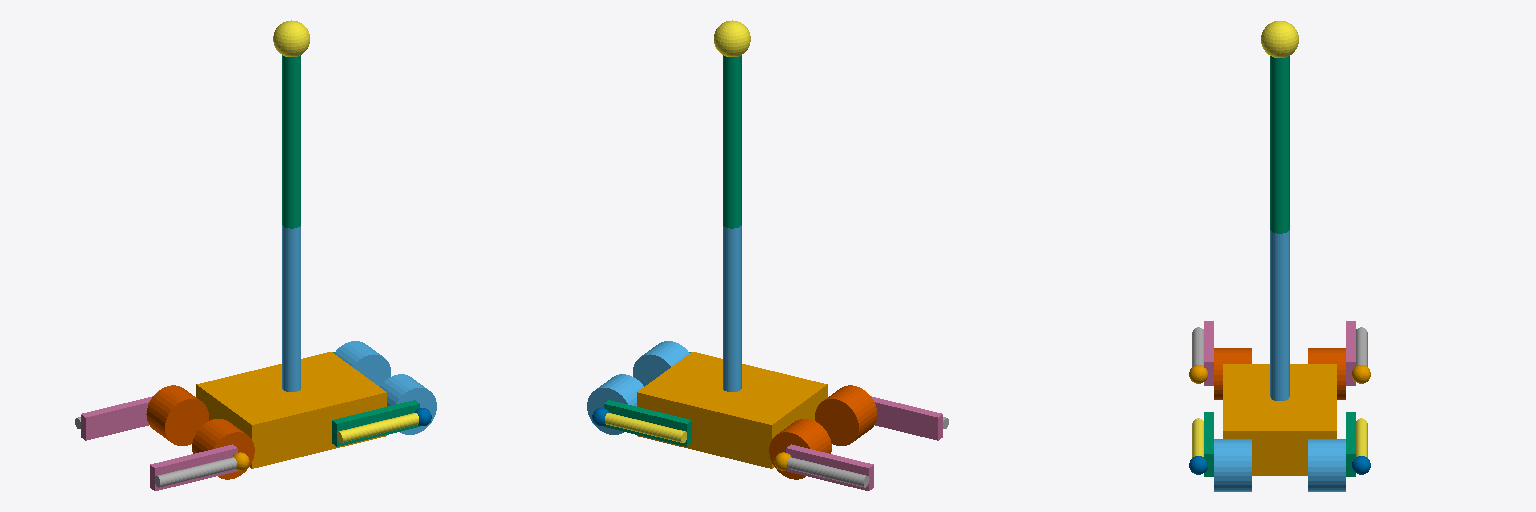
--- Facts derived from the render (not from the file) ---
The picture shows the robot from 3 angles, left to right: view 1: azimuth 30°, elevation 25°; view 2: azimuth 150°, elevation 25°; view 3: azimuth 270°, elevation 25°; orthographic projection.
Robot: spirit — 20 links, 19 joints (14 revolute, 5 fixed); root link body; default pose: every joint at zero.
Visible links, largest first — view 1: body, tail_link_1, tail_link_0, hip1, upper1, hip3, hip2, upper2, upper3, hip0, tail_mass, lower2 (+1 smaller); view 2: body, tail_link_1, tail_link_0, hip3, upper3, hip1, hip0, upper0, upper1, hip2, tail_mass, lower0 (+1 smaller); view 3: body, tail_link_1, tail_link_0, hip0, hip2, tail_mass, hip1, hip3, upper0, upper2, upper1, upper3.
Link boxes in pixels (bbox=[...]): body: bbox=[196, 352, 386, 468]; tail_link_1: bbox=[282, 55, 300, 228]; tail_link_0: bbox=[282, 225, 300, 391]; hip1: bbox=[146, 385, 208, 445]; upper1: bbox=[81, 396, 152, 440]; hip3: bbox=[192, 419, 254, 479]; hip2: bbox=[380, 374, 436, 434]; upper2: bbox=[332, 400, 419, 446]; upper3: bbox=[150, 444, 237, 490]; hip0: bbox=[334, 341, 390, 386]; tail_mass: bbox=[273, 20, 309, 56]; lower2: bbox=[337, 413, 418, 442]; body: bbox=[637, 352, 827, 468]; tail_link_1: bbox=[723, 55, 741, 228]; tail_link_0: bbox=[723, 225, 741, 391]; hip3: bbox=[815, 385, 877, 445]; upper3: bbox=[871, 396, 942, 440]; hip1: bbox=[769, 419, 831, 479]; hip0: bbox=[587, 374, 643, 434]; upper0: bbox=[604, 400, 691, 446]; upper1: bbox=[786, 444, 873, 490]; hip2: bbox=[633, 341, 689, 386]; tail_mass: bbox=[714, 20, 750, 56]; lower0: bbox=[605, 413, 686, 442]; body: bbox=[1223, 364, 1336, 475]; tail_link_1: bbox=[1270, 56, 1289, 233]; tail_link_0: bbox=[1270, 230, 1289, 400]; hip0: bbox=[1308, 439, 1345, 491]; hip2: bbox=[1214, 439, 1251, 491]; tail_mass: bbox=[1261, 21, 1298, 57]; hip1: bbox=[1308, 348, 1345, 399]; hip3: bbox=[1214, 348, 1251, 399]; upper0: bbox=[1346, 412, 1355, 476]; upper2: bbox=[1204, 412, 1213, 476]; upper1: bbox=[1346, 321, 1355, 385]; upper3: bbox=[1204, 321, 1213, 385].
Bounding box of the posed robot: 0.7136 × 0.382 × 0.9766 m (x, y, z).
Geometry: primitives only (box / cylinder / sphere), no mesh files.

URDF robot description (spirit):
<?xml version="1.0" encoding="utf-8"?>
<!-- =================================================================================== -->
<!-- |    This document was autogenerated by xacro from xacro/spirit_gazebo_tail.urdf.xacro | -->
<!-- |    EDITING THIS FILE BY HAND IS NOT RECOMMENDED                                 | -->
<!-- =================================================================================== -->
<!-- 
MIT License (modified)

Copyright (c) 2020 Ghost Robotics
Authors:
Avik De <[email redacted]>
Tom Jacobs <[email redacted]>

Permission is hereby granted, free of charge, to any person obtaining a copy
of this **file** (the "Software"), to deal
in the Software without restriction, including without limitation the rights
to use, copy, modify, merge, publish, distribute, sublicense, and/or sell
copies of the Software, and to permit persons to whom the Software is
furnished to do so, subject to the following conditions:

The above copyright notice and this permission notice shall be included in all
copies or substantial portions of the Software.

THE SOFTWARE IS PROVIDED "AS IS", WITHOUT WARRANTY OF ANY KIND, EXPRESS OR
IMPLIED, INCLUDING BUT NOT LIMITED TO THE WARRANTIES OF MERCHANTABILITY,
FITNESS FOR A PARTICULAR PURPOSE AND NONINFRINGEMENT. IN NO EVENT SHALL THE
AUTHORS OR COPYRIGHT HOLDERS BE LIABLE FOR ANY CLAIM, DAMAGES OR OTHER
LIABILITY, WHETHER IN AN ACTION OF CONTRACT, TORT OR OTHERWISE, ARISING FROM,
OUT OF OR IN CONNECTION WITH THE SOFTWARE OR THE USE OR OTHER DEALINGS IN THE
SOFTWARE. 
-->
<robot name="spirit">
  <!-- Plugins -->
  <gazebo>
    <plugin filename="libgazebo_ros_control.so" name="gazebo_ros_control">
      <robotNamespace>/spirit</robotNamespace>
      <controlPeriod>0.002</controlPeriod>
    </plugin>
    <plugin filename="libground_truth_estimator.so" name="ground_truth_estimator">
      <updateRateHz>500.0</updateRateHz>
    </plugin>
  </gazebo>
  <!--link name="body_dummy">
		<inertial>
			<mass value="${bodyMass}" />
			<inertia ixx="0.05" ixy="0" ixz="0" iyy="0.1" iyz="0" izz="0.1" />
		</inertial>
	</link>
	<joint name="dummy_joint" type="fixed">
		<parent link="body_dummy" />
		<child link="body" />
	</joint-->
  <!-- Body -->
  <link name="body">
    <visual>
      <origin rpy="0 0 0" xyz="0 0 0"/>
      <geometry>
        <box size="0.335 0.24 0.104"/>
      </geometry>
      <material name="darkgray"/>
    </visual>
    <inertial>
      <mass value="7.388"/>
      <!--<mass value="${bodyMass}" /> -->
      <!-- Uniform box -->
      <!-- <inertia ixx="1/12*${bodyMass}*(${bodyWidth}*${bodyWidth} + ${bodyHeight}*${bodyHeight})"  ixy="0"  ixz="0" iyy="1/12*${bodyMass}*(${bodyLength}*${bodyLength} + ${bodyHeight}*${bodyHeight})" iyz="0" izz="1/12*${bodyMass}*(${bodyLength}*${bodyLength} + ${bodyWidth}*${bodyWidth})"/> -->
      <inertia ixx="0.0642434782" ixy="0" ixz="0" iyy="0.1284869565" iyz="0" izz="0.1284869565"/>
      <!--<inertia ixx="0.05" ixy="0" ixz="0" iyy="0.1" iyz="0" izz="0.1" />-->
    </inertial>
    <!-- Just copy geometry for collision -->
    <collision>
      <origin rpy="0 0 0" xyz="0 0 0"/>
      <geometry>
        <box size="0.335 0.24 0.104"/>
      </geometry>
    </collision>
  </link>
  <gazebo reference="body">
    <material>Gazebo/Black</material>
  </gazebo>
  <!-- Hip motor -->
  <link name="hip0">
    <visual>
      <origin rpy="1.5707963268 0 0" xyz="0 0.028 0"/>
      <geometry>
        <cylinder length="0.08" radius="0.055"/>
      </geometry>
    </visual>
    <collision>
      <origin rpy="1.5707963268 0 0" xyz="0 0.028 0"/>
      <geometry>
        <cylinder length="0.08" radius="0.055"/>
      </geometry>
    </collision>
    <inertial>
      <origin rpy="1.5707963268 0 0" xyz="0 0.028 0"/>
      <mass value="0.575"/>
      <inertia ixx="0.000741510416667" ixy="0" ixz="0" iyy="0.000741510416667" iyz="0" izz="0.0008696875"/>
      <!-- Okay for now... forgot when cylinder is formed what direction is x pointing in -->
      <!--inertia ixx="0.00066963541" ixy="0" ixz="0" iyy="0.00066963541" iyz="0" izz="0.0008696875" /-->
    </inertial>
  </link>
  <gazebo reference="hip0">
    <material>Gazebo/Grey</material>
  </gazebo>
  <!-- Abduction joint. Joint names are: 8 9 10 11 -->
  <joint name="8" type="revolute">
    <parent link="body"/>
    <child link="hip0"/>
    <axis xyz="1 0 0"/>
    <origin xyz="0.2263 0.07 0"/>
    <limit effort="21" lower="-0.707" upper="0.707" velocity="37.7"/>
    <dynamics damping="0.0" friction="0.0"/>
  </joint>
  <!-- Transmission elements required for Gazebo -->
  <transmission name="transmission_8">
    <type>transmission_interface/SimpleTransmission</type>
    <joint name="8">
      <hardwareInterface>hardware_interface/EffortJointInterface</hardwareInterface>
    </joint>
    <actuator name="motor_8">
      <hardwareInterface>EffortJointInterface</hardwareInterface>
      <mechanicalReduction>1</mechanicalReduction>
    </actuator>
  </transmission>
  <!-- Upper leg -->
  <link name="upper0">
    <visual>
      <origin rpy="0 0 0" xyz="-0.103 -0.022 0"/>
      <geometry>
        <box size="0.206 0.022 0.055"/>
      </geometry>
      <material name="silver"/>
    </visual>
    <collision>
      <origin rpy="0 0 0" xyz="-0.103 -0.022 0"/>
      <geometry>
        <box size="0.206 0.022 0.055"/>
      </geometry>
    </collision>
    <inertial>
      <origin rpy="0 0 0" xyz="-0.103 -0.022 0"/>
      <mass value="0.792"/>
      <!--<inertia ixx="${upperLegIxx}" ixy="0" ixz="0" iyy="${upperLegIyy}" iyz="0" izz="${upperLegIzz}" /> -->
      <inertia ixx="0.000231594" ixy="0" ixz="0" iyy="0.003000426" iyz="0" izz="0.00283272"/>
    </inertial>
  </link>
  <gazebo reference="upper0">
    <self_collide>0</self_collide>
    <material>Gazebo/DarkGrey</material>
  </gazebo>
  <!-- Hip joint. (Motor to upper leg). Joint names are: 0 2 4 6 -->
  <joint name="0" type="revolute">
    <parent link="hip0"/>
    <child link="upper0"/>
    <axis xyz="0 -1 0"/>
    <origin xyz="0 0.10098 0"/>
    <!--  rpy="0 -0.3 0" -->
    <limit effort="21" lower="-1.57" upper="3.14" velocity="37.7"/>
    <dynamics damping="0.0" friction="0.0"/>
  </joint>
  <!-- Transmission elements required for Gazebo -->
  <transmission name="transmission_0">
    <type>transmission_interface/SimpleTransmission</type>
    <joint name="0">
      <hardwareInterface>hardware_interface/EffortJointInterface</hardwareInterface>
    </joint>
    <actuator name="motor_0">
      <hardwareInterface>EffortJointInterface</hardwareInterface>
      <mechanicalReduction>1</mechanicalReduction>
    </actuator>
  </transmission>
  <!-- Lower leg -->
  <link name="lower0">
    <self_collide>0</self_collide>
    <visual>
      <origin rpy="0 1.5707963268 0" xyz="0.103 0 0"/>
      <geometry>
        <cylinder length="0.206" radius="0.013"/>
      </geometry>
      <material name="darkgray"/>
    </visual>
    <collision>
      <origin rpy="0 1.5707963268 0" xyz="0.103 0 0"/>
      <geometry>
        <cylinder length="0.206" radius="0.013"/>
      </geometry>
    </collision>
    <inertial>
      <origin rpy="0 0 0" xyz="0.103 0 0"/>
      <mass value="0.075"/>
      <!--inertia ixx="${lowerLegIxx}" ixy="0" ixz="0" iyy="${lowerLegIyy}" iyz="0" izz="${lowerLegIzz}" /-->
      <inertia ixx="2.193125e-05" ixy="0" ixz="0" iyy="0.00028413125" iyz="0" izz="0.00026825"/>
    </inertial>
  </link>
  <gazebo reference="lower0">
    <material>Gazebo/Grey</material>
  </gazebo>
  <!-- Knee joint. Joint names are: 1 3 5 7 -->
  <joint name="1" type="revolute">
    <parent link="upper0"/>
    <child link="lower0"/>
    <axis xyz="0 1 0"/>
    <origin xyz="-0.206 0 0"/>
    <!--rpy="0 0.5 0"-->
    <!--<limit effort="${jointEffortLimit}" velocity="${jointSpeedLimit}" lower="0" upper="${pi}" />-->
    <limit effort="32" lower="-6.28" upper="6.28" velocity="25.1"/>
    <dynamics damping="0.0" friction="0.0"/>
  </joint>
  <!-- Transmission elements required for Gazebo -->
  <transmission name="transmission_1">
    <type>transmission_interface/SimpleTransmission</type>
    <joint name="1">
      <hardwareInterface>hardware_interface/EffortJointInterface</hardwareInterface>
    </joint>
    <actuator name="motor_1">
      <hardwareInterface>EffortJointInterface</hardwareInterface>
      <mechanicalReduction>1</mechanicalReduction>
    </actuator>
  </transmission>
  <!-- Toe -->
  <link name="toe0">
    <contact>
      <friction_anchor/>
      <stiffness value="30000.0"/>
      <damping value="1000.0"/>
      <spinning_friction value="0.3"/>
      <lateral_friction value="50.0"/>
    </contact>
    <visual>
      <origin rpy="0 0 0" xyz="0 0 0"/>
      <geometry>
        <sphere radius="0.02"/>
      </geometry>
      <material name="darkgray"/>
    </visual>
    <collision>
      <origin rpy="0 0 0" xyz="0 0 0"/>
      <geometry>
        <sphere radius="0.02"/>
      </geometry>
    </collision>
    <inertial>
      <mass value="0.015"/>
      <inertia ixx="0.000025" ixy="0" ixz="0" iyy="0.000025" iyz="0" izz="0.000025"/>
      <!-- <inertia ixx="2/5*${toeMass}*${toeRadius}*${toeRadius}"  ixy="0"  ixz="0" iyy="2/5*${toeMass}*${toeRadius}*${toeRadius}" iyz="0" izz="2/5*${toeMass}*${toeRadius}*${toeRadius}" /> -->
    </inertial>
  </link>
  <gazebo reference="toe0">
    <self_collide>0</self_collide>
    <material>Gazebo/Black</material>
    <collision>
      <surface>
        <bounce>
          <restitution_coefficient>0</restitution_coefficient>
          <threshold>1e+06</threshold>
        </bounce>
        <friction>
          <torsional>
            <coefficient>0.3</coefficient>
          </torsional>
          <ode>
            <mu>100.0</mu>
            <mu2>50.0</mu2>
          </ode>
          <bullet>
            <rolling_friction>0.3</rolling_friction>
            <friction2>50.0</friction2>
          </bullet>
        </friction>
        <contact>
          <bullet>
            <kp>30000.0</kp>
            <kd>1000.0</kd>
          </bullet>
          <ode>
            <kp>30000.0</kp>
            <kd>1000.0</kd>
          </ode>
        </contact>
      </surface>
    </collision>
  </gazebo>
  <joint name="jtoe0" type="fixed">
    <parent link="lower0"/>
    <child link="toe0"/>
    <origin xyz="0.206 0 -0.0"/>
    <dynamics damping="0.0" friction="0.0"/>
  </joint>
  <!-- Hip motor -->
  <link name="hip1">
    <visual>
      <origin rpy="1.5707963268 0 0" xyz="0 0.028 0"/>
      <geometry>
        <cylinder length="0.08" radius="0.055"/>
      </geometry>
    </visual>
    <collision>
      <origin rpy="1.5707963268 0 0" xyz="0 0.028 0"/>
      <geometry>
        <cylinder length="0.08" radius="0.055"/>
      </geometry>
    </collision>
    <inertial>
      <origin rpy="1.5707963268 0 0" xyz="0 0.028 0"/>
      <mass value="0.575"/>
      <inertia ixx="0.000741510416667" ixy="0" ixz="0" iyy="0.000741510416667" iyz="0" izz="0.0008696875"/>
      <!-- Okay for now... forgot when cylinder is formed what direction is x pointing in -->
      <!--inertia ixx="0.00066963541" ixy="0" ixz="0" iyy="0.00066963541" iyz="0" izz="0.0008696875" /-->
    </inertial>
  </link>
  <gazebo reference="hip1">
    <material>Gazebo/Grey</material>
  </gazebo>
  <!-- Abduction joint. Joint names are: 8 9 10 11 -->
  <joint name="9" type="revolute">
    <parent link="body"/>
    <child link="hip1"/>
    <axis xyz="1 0 0"/>
    <origin xyz="-0.2263 0.07 0"/>
    <limit effort="21" lower="-0.707" upper="0.707" velocity="37.7"/>
    <dynamics damping="0.0" friction="0.0"/>
  </joint>
  <!-- Transmission elements required for Gazebo -->
  <transmission name="transmission_9">
    <type>transmission_interface/SimpleTransmission</type>
    <joint name="9">
      <hardwareInterface>hardware_interface/EffortJointInterface</hardwareInterface>
    </joint>
    <actuator name="motor_9">
      <hardwareInterface>EffortJointInterface</hardwareInterface>
      <mechanicalReduction>1</mechanicalReduction>
    </actuator>
  </transmission>
  <!-- Upper leg -->
  <link name="upper1">
    <visual>
      <origin rpy="0 0 0" xyz="-0.103 -0.022 0"/>
      <geometry>
        <box size="0.206 0.022 0.055"/>
      </geometry>
      <material name="silver"/>
    </visual>
    <collision>
      <origin rpy="0 0 0" xyz="-0.103 -0.022 0"/>
      <geometry>
        <box size="0.206 0.022 0.055"/>
      </geometry>
    </collision>
    <inertial>
      <origin rpy="0 0 0" xyz="-0.103 -0.022 0"/>
      <mass value="0.792"/>
      <!--<inertia ixx="${upperLegIxx}" ixy="0" ixz="0" iyy="${upperLegIyy}" iyz="0" izz="${upperLegIzz}" /> -->
      <inertia ixx="0.000231594" ixy="0" ixz="0" iyy="0.003000426" iyz="0" izz="0.00283272"/>
    </inertial>
  </link>
  <gazebo reference="upper1">
    <self_collide>0</self_collide>
    <material>Gazebo/DarkGrey</material>
  </gazebo>
  <!-- Hip joint. (Motor to upper leg). Joint names are: 0 2 4 6 -->
  <joint name="2" type="revolute">
    <parent link="hip1"/>
    <child link="upper1"/>
    <axis xyz="0 -1 0"/>
    <origin xyz="0 0.10098 0"/>
    <!--  rpy="0 -0.3 0" -->
    <limit effort="21" lower="-1.57" upper="3.14" velocity="37.7"/>
    <dynamics damping="0.0" friction="0.0"/>
  </joint>
  <!-- Transmission elements required for Gazebo -->
  <transmission name="transmission_2">
    <type>transmission_interface/SimpleTransmission</type>
    <joint name="2">
      <hardwareInterface>hardware_interface/EffortJointInterface</hardwareInterface>
    </joint>
    <actuator name="motor_2">
      <hardwareInterface>EffortJointInterface</hardwareInterface>
      <mechanicalReduction>1</mechanicalReduction>
    </actuator>
  </transmission>
  <!-- Lower leg -->
  <link name="lower1">
    <self_collide>0</self_collide>
    <visual>
      <origin rpy="0 1.5707963268 0" xyz="0.103 0 0"/>
      <geometry>
        <cylinder length="0.206" radius="0.013"/>
      </geometry>
      <material name="darkgray"/>
    </visual>
    <collision>
      <origin rpy="0 1.5707963268 0" xyz="0.103 0 0"/>
      <geometry>
        <cylinder length="0.206" radius="0.013"/>
      </geometry>
    </collision>
    <inertial>
      <origin rpy="0 0 0" xyz="0.103 0 0"/>
      <mass value="0.075"/>
      <!--inertia ixx="${lowerLegIxx}" ixy="0" ixz="0" iyy="${lowerLegIyy}" iyz="0" izz="${lowerLegIzz}" /-->
      <inertia ixx="2.193125e-05" ixy="0" ixz="0" iyy="0.00028413125" iyz="0" izz="0.00026825"/>
    </inertial>
  </link>
  <gazebo reference="lower1">
    <material>Gazebo/Grey</material>
  </gazebo>
  <!-- Knee joint. Joint names are: 1 3 5 7 -->
  <joint name="3" type="revolute">
    <parent link="upper1"/>
    <child link="lower1"/>
    <axis xyz="0 1 0"/>
    <origin xyz="-0.206 0 0"/>
    <!--rpy="0 0.5 0"-->
    <!--<limit effort="${jointEffortLimit}" velocity="${jointSpeedLimit}" lower="0" upper="${pi}" />-->
    <limit effort="32" lower="-6.28" upper="6.28" velocity="25.1"/>
    <dynamics damping="0.0" friction="0.0"/>
  </joint>
  <!-- Transmission elements required for Gazebo -->
  <transmission name="transmission_3">
    <type>transmission_interface/SimpleTransmission</type>
    <joint name="3">
      <hardwareInterface>hardware_interface/EffortJointInterface</hardwareInterface>
    </joint>
    <actuator name="motor_3">
      <hardwareInterface>EffortJointInterface</hardwareInterface>
      <mechanicalReduction>1</mechanicalReduction>
    </actuator>
  </transmission>
  <!-- Toe -->
  <link name="toe1">
    <contact>
      <friction_anchor/>
      <stiffness value="30000.0"/>
      <damping value="1000.0"/>
      <spinning_friction value="0.3"/>
      <lateral_friction value="50.0"/>
    </contact>
    <visual>
      <origin rpy="0 0 0" xyz="0 0 0"/>
      <geometry>
        <sphere radius="0.02"/>
      </geometry>
      <material name="darkgray"/>
    </visual>
    <collision>
      <origin rpy="0 0 0" xyz="0 0 0"/>
      <geometry>
        <sphere radius="0.02"/>
      </geometry>
    </collision>
    <inertial>
      <mass value="0.015"/>
      <inertia ixx="0.000025" ixy="0" ixz="0" iyy="0.000025" iyz="0" izz="0.000025"/>
      <!-- <inertia ixx="2/5*${toeMass}*${toeRadius}*${toeRadius}"  ixy="0"  ixz="0" iyy="2/5*${toeMass}*${toeRadius}*${toeRadius}" iyz="0" izz="2/5*${toeMass}*${toeRadius}*${toeRadius}" /> -->
    </inertial>
  </link>
  <gazebo reference="toe1">
    <self_collide>0</self_collide>
    <material>Gazebo/Black</material>
    <collision>
      <surface>
        <bounce>
          <restitution_coefficient>0</restitution_coefficient>
          <threshold>1e+06</threshold>
        </bounce>
        <friction>
          <torsional>
            <coefficient>0.3</coefficient>
          </torsional>
          <ode>
            <mu>100.0</mu>
            <mu2>50.0</mu2>
          </ode>
          <bullet>
            <rolling_friction>0.3</rolling_friction>
            <friction2>50.0</friction2>
          </bullet>
        </friction>
        <contact>
          <bullet>
            <kp>30000.0</kp>
            <kd>1000.0</kd>
          </bullet>
          <ode>
            <kp>30000.0</kp>
            <kd>1000.0</kd>
          </ode>
        </contact>
      </surface>
    </collision>
  </gazebo>
  <joint name="jtoe1" type="fixed">
    <parent link="lower1"/>
    <child link="toe1"/>
    <origin xyz="0.206 0 -0.0"/>
    <dynamics damping="0.0" friction="0.0"/>
  </joint>
  <!-- Hip motor -->
  <link name="hip2">
    <visual>
      <origin rpy="1.5707963268 0 0" xyz="0 -0.028 0"/>
      <geometry>
        <cylinder length="0.08" radius="0.055"/>
      </geometry>
    </visual>
    <collision>
      <origin rpy="1.5707963268 0 0" xyz="0 -0.028 0"/>
      <geometry>
        <cylinder length="0.08" radius="0.055"/>
      </geometry>
    </collision>
    <inertial>
      <origin rpy="1.5707963268 0 0" xyz="0 -0.028 0"/>
      <mass value="0.575"/>
      <inertia ixx="0.000741510416667" ixy="0" ixz="0" iyy="0.000741510416667" iyz="0" izz="0.0008696875"/>
      <!-- Okay for now... forgot when cylinder is formed what direction is x pointing in -->
      <!--inertia ixx="0.00066963541" ixy="0" ixz="0" iyy="0.00066963541" iyz="0" izz="0.0008696875" /-->
    </inertial>
  </link>
  <gazebo reference="hip2">
    <material>Gazebo/Grey</material>
  </gazebo>
  <!-- Abduction joint. Joint names are: 8 9 10 11 -->
  <joint name="10" type="revolute">
    <parent link="body"/>
    <child link="hip2"/>
    <axis xyz="1 0 0"/>
    <origin xyz="0.2263 -0.07 0"/>
    <limit effort="21" lower="-0.707" upper="0.707" velocity="37.7"/>
    <dynamics damping="0.0" friction="0.0"/>
  </joint>
  <!-- Transmission elements required for Gazebo -->
  <transmission name="transmission_10">
    <type>transmission_interface/SimpleTransmission</type>
    <joint name="10">
      <hardwareInterface>hardware_interface/EffortJointInterface</hardwareInterface>
    </joint>
    <actuator name="motor_10">
      <hardwareInterface>EffortJointInterface</hardwareInterface>
      <mechanicalReduction>1</mechanicalReduction>
    </actuator>
  </transmission>
  <!-- Upper leg -->
  <link name="upper2">
    <visual>
      <origin rpy="0 0 0" xyz="-0.103 0.022 0"/>
      <geometry>
        <box size="0.206 0.022 0.055"/>
      </geometry>
      <material name="silver"/>
    </visual>
    <collision>
      <origin rpy="0 0 0" xyz="-0.103 0.022 0"/>
      <geometry>
        <box size="0.206 0.022 0.055"/>
      </geometry>
    </collision>
    <inertial>
      <origin rpy="0 0 0" xyz="-0.103 0.022 0"/>
      <mass value="0.792"/>
      <!--<inertia ixx="${upperLegIxx}" ixy="0" ixz="0" iyy="${upperLegIyy}" iyz="0" izz="${upperLegIzz}" /> -->
      <inertia ixx="0.000231594" ixy="0" ixz="0" iyy="0.003000426" iyz="0" izz="0.00283272"/>
    </inertial>
  </link>
  <gazebo reference="upper2">
    <self_collide>0</self_collide>
    <material>Gazebo/DarkGrey</material>
  </gazebo>
  <!-- Hip joint. (Motor to upper leg). Joint names are: 0 2 4 6 -->
  <joint name="4" type="revolute">
    <parent link="hip2"/>
    <child link="upper2"/>
    <axis xyz="0 -1 0"/>
    <origin xyz="0 -0.10098 0"/>
    <!--  rpy="0 -0.3 0" -->
    <limit effort="21" lower="-1.57" upper="3.14" velocity="37.7"/>
    <dynamics damping="0.0" friction="0.0"/>
  </joint>
  <!-- Transmission elements required for Gazebo -->
  <transmission name="transmission_4">
    <type>transmission_interface/SimpleTransmission</type>
    <joint name="4">
      <hardwareInterface>hardware_interface/EffortJointInterface</hardwareInterface>
    </joint>
    <actuator name="motor_4">
      <hardwareInterface>EffortJointInterface</hardwareInterface>
      <mechanicalReduction>1</mechanicalReduction>
    </actuator>
  </transmission>
  <!-- Lower leg -->
  <link name="lower2">
    <self_collide>0</self_collide>
    <visual>
      <origin rpy="0 1.5707963268 0" xyz="0.103 0 0"/>
      <geometry>
        <cylinder length="0.206" radius="0.013"/>
      </geometry>
      <material name="darkgray"/>
    </visual>
    <collision>
      <origin rpy="0 1.5707963268 0" xyz="0.103 0 0"/>
      <geometry>
        <cylinder length="0.206" radius="0.013"/>
      </geometry>
    </collision>
    <inertial>
      <origin rpy="0 0 0" xyz="0.103 0 0"/>
      <mass value="0.075"/>
      <!--inertia ixx="${lowerLegIxx}" ixy="0" ixz="0" iyy="${lowerLegIyy}" iyz="0" izz="${lowerLegIzz}" /-->
      <inertia ixx="2.193125e-05" ixy="0" ixz="0" iyy="0.00028413125" iyz="0" izz="0.00026825"/>
    </inertial>
  </link>
  <gazebo reference="lower2">
    <material>Gazebo/Grey</material>
  </gazebo>
  <!-- Knee joint. Joint names are: 1 3 5 7 -->
  <joint name="5" type="revolute">
    <parent link="upper2"/>
    <child link="lower2"/>
    <axis xyz="0 1 0"/>
    <origin xyz="-0.206 0 0"/>
    <!--rpy="0 0.5 0"-->
    <!--<limit effort="${jointEffortLimit}" velocity="${jointSpeedLimit}" lower="0" upper="${pi}" />-->
    <limit effort="32" lower="-6.28" upper="6.28" velocity="25.1"/>
    <dynamics damping="0.0" friction="0.0"/>
  </joint>
  <!-- Transmission elements required for Gazebo -->
  <transmission name="transmission_5">
    <type>transmission_interface/SimpleTransmission</type>
    <joint name="5">
      <hardwareInterface>hardware_interface/EffortJointInterface</hardwareInterface>
    </joint>
    <actuator name="motor_5">
      <hardwareInterface>EffortJointInterface</hardwareInterface>
      <mechanicalReduction>1</mechanicalReduction>
    </actuator>
  </transmission>
  <!-- Toe -->
  <link name="toe2">
    <contact>
      <friction_anchor/>
      <stiffness value="30000.0"/>
      <damping value="1000.0"/>
      <spinning_friction value="0.3"/>
      <lateral_friction value="50.0"/>
    </contact>
    <visual>
      <origin rpy="0 0 0" xyz="0 0 0"/>
      <geometry>
        <sphere radius="0.02"/>
      </geometry>
      <material name="darkgray"/>
    </visual>
    <collision>
      <origin rpy="0 0 0" xyz="0 0 0"/>
      <geometry>
        <sphere radius="0.02"/>
      </geometry>
    </collision>
    <inertial>
      <mass value="0.015"/>
      <inertia ixx="0.000025" ixy="0" ixz="0" iyy="0.000025" iyz="0" izz="0.000025"/>
      <!-- <inertia ixx="2/5*${toeMass}*${toeRadius}*${toeRadius}"  ixy="0"  ixz="0" iyy="2/5*${toeMass}*${toeRadius}*${toeRadius}" iyz="0" izz="2/5*${toeMass}*${toeRadius}*${toeRadius}" /> -->
    </inertial>
  </link>
  <gazebo reference="toe2">
    <self_collide>0</self_collide>
    <material>Gazebo/Black</material>
    <collision>
      <surface>
        <bounce>
          <restitution_coefficient>0</restitution_coefficient>
          <threshold>1e+06</threshold>
        </bounce>
        <friction>
          <torsional>
            <coefficient>0.3</coefficient>
          </torsional>
          <ode>
            <mu>100.0</mu>
            <mu2>50.0</mu2>
          </ode>
          <bullet>
            <rolling_friction>0.3</rolling_friction>
            <friction2>50.0</friction2>
          </bullet>
        </friction>
        <contact>
          <bullet>
            <kp>30000.0</kp>
            <kd>1000.0</kd>
          </bullet>
          <ode>
            <kp>30000.0</kp>
            <kd>1000.0</kd>
          </ode>
        </contact>
      </surface>
    </collision>
  </gazebo>
  <joint name="jtoe2" type="fixed">
    <parent link="lower2"/>
    <child link="toe2"/>
    <origin xyz="0.206 0 -0.0"/>
    <dynamics damping="0.0" friction="0.0"/>
  </joint>
  <!-- Hip motor -->
  <link name="hip3">
    <visual>
      <origin rpy="1.5707963268 0 0" xyz="0 -0.028 0"/>
      <geometry>
        <cylinder length="0.08" radius="0.055"/>
      </geometry>
    </visual>
    <collision>
      <origin rpy="1.5707963268 0 0" xyz="0 -0.028 0"/>
      <geometry>
        <cylinder length="0.08" radius="0.055"/>
      </geometry>
    </collision>
    <inertial>
      <origin rpy="1.5707963268 0 0" xyz="0 -0.028 0"/>
      <mass value="0.575"/>
      <inertia ixx="0.000741510416667" ixy="0" ixz="0" iyy="0.000741510416667" iyz="0" izz="0.0008696875"/>
      <!-- Okay for now... forgot when cylinder is formed what direction is x pointing in -->
      <!--inertia ixx="0.00066963541" ixy="0" ixz="0" iyy="0.00066963541" iyz="0" izz="0.0008696875" /-->
    </inertial>
  </link>
  <gazebo reference="hip3">
    <material>Gazebo/Grey</material>
  </gazebo>
  <!-- Abduction joint. Joint names are: 8 9 10 11 -->
  <joint name="11" type="revolute">
    <parent link="body"/>
    <child link="hip3"/>
    <axis xyz="1 0 0"/>
    <origin xyz="-0.2263 -0.07 0"/>
    <limit effort="21" lower="-0.707" upper="0.707" velocity="37.7"/>
    <dynamics damping="0.0" friction="0.0"/>
  </joint>
  <!-- Transmission elements required for Gazebo -->
  <transmission name="transmission_11">
    <type>transmission_interface/SimpleTransmission</type>
    <joint name="11">
      <hardwareInterface>hardware_interface/EffortJointInterface</hardwareInterface>
    </joint>
    <actuator name="motor_11">
      <hardwareInterface>EffortJointInterface</hardwareInterface>
      <mechanicalReduction>1</mechanicalReduction>
    </actuator>
  </transmission>
  <!-- Upper leg -->
  <link name="upper3">
    <visual>
      <origin rpy="0 0 0" xyz="-0.103 0.022 0"/>
      <geometry>
        <box size="0.206 0.022 0.055"/>
      </geometry>
      <material name="silver"/>
    </visual>
    <collision>
      <origin rpy="0 0 0" xyz="-0.103 0.022 0"/>
      <geometry>
        <box size="0.206 0.022 0.055"/>
      </geometry>
    </collision>
    <inertial>
      <origin rpy="0 0 0" xyz="-0.103 0.022 0"/>
      <mass value="0.792"/>
      <!--<inertia ixx="${upperLegIxx}" ixy="0" ixz="0" iyy="${upperLegIyy}" iyz="0" izz="${upperLegIzz}" /> -->
      <inertia ixx="0.000231594" ixy="0" ixz="0" iyy="0.003000426" iyz="0" izz="0.00283272"/>
    </inertial>
  </link>
  <gazebo reference="upper3">
    <self_collide>0</self_collide>
    <material>Gazebo/DarkGrey</material>
  </gazebo>
  <!-- Hip joint. (Motor to upper leg). Joint names are: 0 2 4 6 -->
  <joint name="6" type="revolute">
    <parent link="hip3"/>
    <child link="upper3"/>
    <axis xyz="0 -1 0"/>
    <origin xyz="0 -0.10098 0"/>
    <!--  rpy="0 -0.3 0" -->
    <limit effort="21" lower="-1.57" upper="3.14" velocity="37.7"/>
    <dynamics damping="0.0" friction="0.0"/>
  </joint>
  <!-- Transmission elements required for Gazebo -->
  <transmission name="transmission_6">
    <type>transmission_interface/SimpleTransmission</type>
    <joint name="6">
      <hardwareInterface>hardware_interface/EffortJointInterface</hardwareInterface>
    </joint>
    <actuator name="motor_6">
      <hardwareInterface>EffortJointInterface</hardwareInterface>
      <mechanicalReduction>1</mechanicalReduction>
    </actuator>
  </transmission>
  <!-- Lower leg -->
  <link name="lower3">
    <self_collide>0</self_collide>
    <visual>
      <origin rpy="0 1.5707963268 0" xyz="0.103 0 0"/>
      <geometry>
        <cylinder length="0.206" radius="0.013"/>
      </geometry>
      <material name="darkgray"/>
    </visual>
    <collision>
      <origin rpy="0 1.5707963268 0" xyz="0.103 0 0"/>
      <geometry>
        <cylinder length="0.206" radius="0.013"/>
      </geometry>
    </collision>
    <inertial>
      <origin rpy="0 0 0" xyz="0.103 0 0"/>
      <mass value="0.075"/>
      <!--inertia ixx="${lowerLegIxx}" ixy="0" ixz="0" iyy="${lowerLegIyy}" iyz="0" izz="${lowerLegIzz}" /-->
      <inertia ixx="2.193125e-05" ixy="0" ixz="0" iyy="0.00028413125" iyz="0" izz="0.00026825"/>
    </inertial>
  </link>
  <gazebo reference="lower3">
    <material>Gazebo/Grey</material>
  </gazebo>
  <!-- Knee joint. Joint names are: 1 3 5 7 -->
  <joint name="7" type="revolute">
    <parent link="upper3"/>
    <child link="lower3"/>
    <axis xyz="0 1 0"/>
    <origin xyz="-0.206 0 0"/>
    <!--rpy="0 0.5 0"-->
    <!--<limit effort="${jointEffortLimit}" velocity="${jointSpeedLimit}" lower="0" upper="${pi}" />-->
    <limit effort="32" lower="-6.28" upper="6.28" velocity="25.1"/>
    <dynamics damping="0.0" friction="0.0"/>
  </joint>
  <!-- Transmission elements required for Gazebo -->
  <transmission name="transmission_7">
    <type>transmission_interface/SimpleTransmission</type>
    <joint name="7">
      <hardwareInterface>hardware_interface/EffortJointInterface</hardwareInterface>
    </joint>
    <actuator name="motor_7">
      <hardwareInterface>EffortJointInterface</hardwareInterface>
      <mechanicalReduction>1</mechanicalReduction>
    </actuator>
  </transmission>
  <!-- Toe -->
  <link name="toe3">
    <contact>
      <friction_anchor/>
      <stiffness value="30000.0"/>
      <damping value="1000.0"/>
      <spinning_friction value="0.3"/>
      <lateral_friction value="50.0"/>
    </contact>
    <visual>
      <origin rpy="0 0 0" xyz="0 0 0"/>
      <geometry>
        <sphere radius="0.02"/>
      </geometry>
      <material name="darkgray"/>
    </visual>
    <collision>
      <origin rpy="0 0 0" xyz="0 0 0"/>
      <geometry>
        <sphere radius="0.02"/>
      </geometry>
    </collision>
    <inertial>
      <mass value="0.015"/>
      <inertia ixx="0.000025" ixy="0" ixz="0" iyy="0.000025" iyz="0" izz="0.000025"/>
      <!-- <inertia ixx="2/5*${toeMass}*${toeRadius}*${toeRadius}"  ixy="0"  ixz="0" iyy="2/5*${toeMass}*${toeRadius}*${toeRadius}" iyz="0" izz="2/5*${toeMass}*${toeRadius}*${toeRadius}" /> -->
    </inertial>
  </link>
  <gazebo reference="toe3">
    <self_collide>0</self_collide>
    <material>Gazebo/Black</material>
    <collision>
      <surface>
        <bounce>
          <restitution_coefficient>0</restitution_coefficient>
          <threshold>1e+06</threshold>
        </bounce>
        <friction>
          <torsional>
            <coefficient>0.3</coefficient>
          </torsional>
          <ode>
            <mu>100.0</mu>
            <mu2>50.0</mu2>
          </ode>
          <bullet>
            <rolling_friction>0.3</rolling_friction>
            <friction2>50.0</friction2>
          </bullet>
        </friction>
        <contact>
          <bullet>
            <kp>30000.0</kp>
            <kd>1000.0</kd>
          </bullet>
          <ode>
            <kp>30000.0</kp>
            <kd>1000.0</kd>
          </ode>
        </contact>
      </surface>
    </collision>
  </gazebo>
  <joint name="jtoe3" type="fixed">
    <parent link="lower3"/>
    <child link="toe3"/>
    <origin xyz="0.206 0 -0.0"/>
    <dynamics damping="0.0" friction="0.0"/>
  </joint>
  <!-- Toe Plugins -->
  <gazebo reference="toe0">
    <sensor name="toe0_contact" type="contact">
      <plugin filename="libgazebo_ros_bumper.so" name="toe0_plugin">
        <alwaysOn>true</alwaysOn>
        <updateRate>500</updateRate>
        <bumperTopicName>gazebo/toe0_contact_state</bumperTopicName>
        <frameName>world</frameName>
      </plugin>
      <contact>
        <collision>toe0_collision</collision>
      </contact>
      <update_rate>500</update_rate>
    </sensor>
  </gazebo>
  <gazebo reference="toe1">
    <sensor name="toe1_contact" type="contact">
      <plugin filename="libgazebo_ros_bumper.so" name="toe1_plugin">
        <alwaysOn>true</alwaysOn>
        <updateRate>500</updateRate>
        <bumperTopicName>gazebo/toe1_contact_state</bumperTopicName>
        <frameName>world</frameName>
      </plugin>
      <contact>
        <collision>toe1_collision</collision>
      </contact>
      <update_rate>500</update_rate>
    </sensor>
  </gazebo>
  <gazebo reference="toe2">
    <sensor name="toe2_contact" type="contact">
      <plugin filename="libgazebo_ros_bumper.so" name="toe2_plugin">
        <alwaysOn>true</alwaysOn>
        <updateRate>500</updateRate>
        <bumperTopicName>gazebo/toe2_contact_state</bumperTopicName>
        <frameName>world</frameName>
      </plugin>
      <contact>
        <collision>toe2_collision</collision>
      </contact>
      <update_rate>500</update_rate>
    </sensor>
  </gazebo>
  <gazebo reference="toe3">
    <sensor name="toe3_contact" type="contact">
      <plugin filename="libgazebo_ros_bumper.so" name="toe3_plugin">
        <alwaysOn>true</alwaysOn>
        <updateRate>500</updateRate>
        <bumperTopicName>gazebo/toe3_contact_state</bumperTopicName>
        <frameName>world</frameName>
      </plugin>
      <contact>
        <collision>toe3_collision</collision>
      </contact>
      <update_rate>500</update_rate>
    </sensor>
  </gazebo>
  <!-- Preserve fixed joints -->
  <gazebo reference="jtoe0">
    <preserveFixedJoint>true</preserveFixedJoint>
  </gazebo>
  <gazebo reference="jtoe1">
    <preserveFixedJoint>true</preserveFixedJoint>
  </gazebo>
  <gazebo reference="jtoe2">
    <preserveFixedJoint>true</preserveFixedJoint>
  </gazebo>
  <gazebo reference="jtoe3">
    <preserveFixedJoint>true</preserveFixedJoint>
  </gazebo>
  <!-- TAIL -->
  <!-- Remark: Need to incorporate reasonable mass & inertia calc wrt tailLength -->
  <!-- Tail Links -->
  <link name="tail_link_0">
    <visual>
      <origin rpy="0 0 0" xyz="0 0 0.2204"/>
      <geometry>
        <cylinder length="0.4408" radius="0.02"/>
      </geometry>
      <material name="gray"/>
    </visual>
    <inertial>
      <origin rpy="0 0 0" xyz="0 0 0.2204"/>
      <mass value="0.001"/>
      <!--<inertia ixx="${tailLinkMass/12*(3*0.02*0.02 + tailLength*tailLength)}" ixy="0" ixz="0" iyy="${tailLinkMass/12*(3*0.02*0.02 + tailLength*tailLength)}" iyz="0.0" izz="${tailLinkMass*(0.02*0.02)/2}" /> -->
      <!-- Assume inertia of a sphere & scale base of 2/5MR^2 -->
      <!--<inertia ixx="${1e-04/(tailNum*tailNum)}" ixy="0" ixz="0" iyy="${1e-04/(tailNum*tailNum)}" iyz="0" izz="${1e-04/(tailNum*tailNum)}" /> -->
      <inertia ixx="0.0001" ixy="0" ixz="0" iyy="0.0001" iyz="0" izz="0.0001"/>
    </inertial>
    <!-- No need to add collision boxes for this -->
  </link>
  <gazebo reference="tail_link_0">
    <material>Gazebo/Gray</material>
  </gazebo>
  <link name="tail_link_1">
    <visual>
      <origin rpy="0 0 0" xyz="0 0 0.2204"/>
      <geometry>
        <cylinder length="0.4408" radius="0.02"/>
      </geometry>
      <material name="gray"/>
    </visual>
    <inertial>
      <origin rpy="0 0 0" xyz="0 0 0.2204"/>
      <mass value="0.001"/>
      <!--<inertia ixx="${1e-04/(tailNum*tailNum)}" ixy="0" ixz="0" iyy="${1e-04/(tailNum*tailNum)}" iyz="0" izz="${1e-04/(tailNum*tailNum)}" /> -->
      <inertia ixx="0.0001" ixy="0" ixz="0" iyy="0.0001" iyz="0" izz="0.0001"/>
    </inertial>
  </link>
  <gazebo reference="tail_link_1">
    <material>Gazebo/Gray</material>
  </gazebo>
  <link name="tail_mass">
    <visual>
      <origin rpy="0 0 0" xyz="0 0 0"/>
      <geometry>
        <sphere radius="0.04"/>
      </geometry>
      <material name="gray"/>
    </visual>
    <inertial>
      <mass value="0.2764"/>
      <inertia ixx="2.764e-04" ixy="0" ixz="0" iyy="2.764e-04" iyz="0" izz="2.764e-04"/>
    </inertial>
  </link>
  <gazebo reference="tail_mass">
    <material>Gazebo/Gray</material>
  </gazebo>
  <!-- Tail Joints -->
  <!-- Non-planar Tail -->
  <joint name="body_tail_joint_0" type="revolute">
    <parent link="body"/>
    <child link="tail_link_0"/>
    <axis xyz="1 0 0"/>
    <origin rpy="0 0 0" xyz="0 0 0"/>
    <limit effort="50" lower="-1.57" upper="1.57" velocity="40"/>
    <dynamics damping="0.0" friction="0.0"/>
  </joint>
  <joint name="body_tail_joint_1" type="revolute">
    <parent link="tail_link_0"/>
    <child link="tail_link_1"/>
    <axis xyz="0 1 0"/>
    <origin rpy="0 0 0" xyz="0 0 0.4408"/>
    <limit effort="50" lower="-1.57" upper="1.57" velocity="40"/>
    <dynamics damping="0.0" friction="0.0"/>
  </joint>
  <joint name="tail_link_mass_joint" type="fixed">
    <parent link="tail_link_1"/>
    <child link="tail_mass"/>
    <origin xyz="0 0 0.4408"/>
    <dynamic damping="0.0" friction="0.0"/>
  </joint>
  <!-- Transmission Elements Required for Gazebo Control -->
  <transmission name="transmission_body_tail_joint_0">
    <type>transmission_interface/SimpleTransmission</type>
    <joint name="body_tail_joint_0">
      <hardwareInterface>hardware_interface/EffortJointInterface</hardwareInterface>
    </joint>
    <actuator name="motor_body_tail_joint_0">
      <hardwareInterface>hardware_interface/EffortJointInterface</hardwareInterface>
      <mechanicalReduction>1</mechanicalReduction>
    </actuator>
  </transmission>
  <transmission name="transmission_body_tail_joint_1">
    <type>transmission_interface/SimpleTransmission</type>
    <joint name="body_tail_joint_1">
      <hardwareInterface>hardware_interface/EffortJointInterface</hardwareInterface>
    </joint>
    <actuator name="motor_body_tail_joint_1">
      <hardwareInterface>hardware_interface/EffortJointInterface</hardwareInterface>
      <mechanicalReduction>1</mechanicalReduction>
    </actuator>
  </transmission>
</robot>
